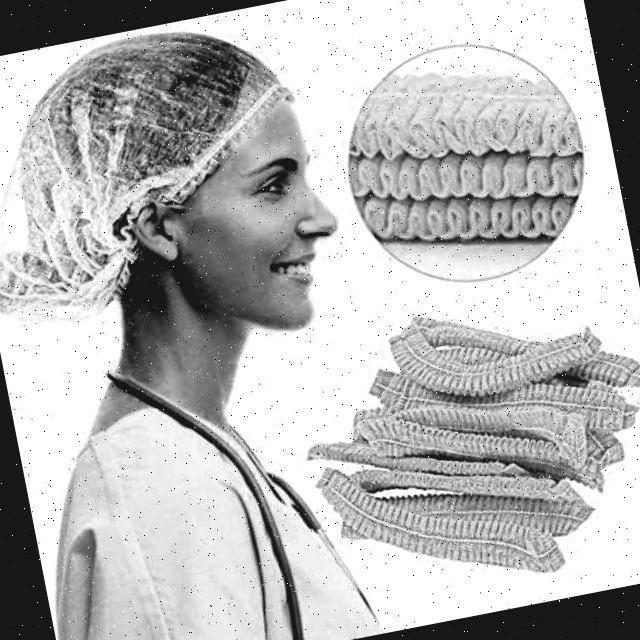no_hairnet: (226, 200, 328, 322)
